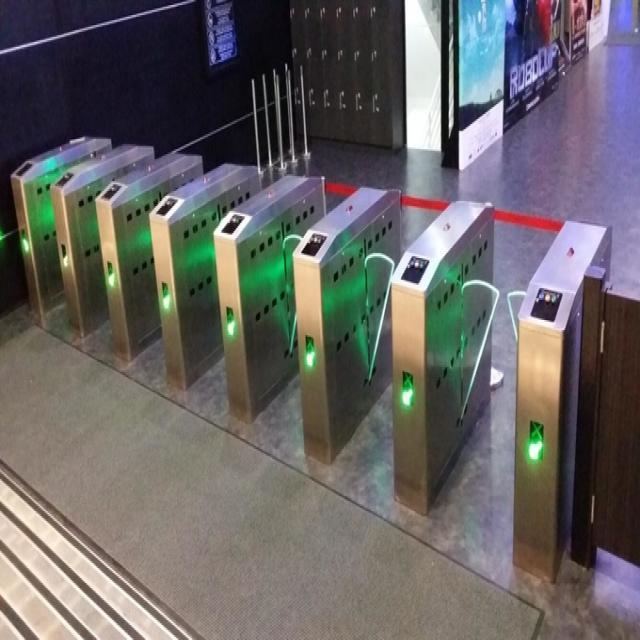torniquete: (512, 223, 605, 580), (391, 202, 496, 514), (292, 187, 401, 462), (214, 176, 325, 422), (150, 167, 261, 388), (95, 154, 202, 359), (51, 145, 154, 336), (11, 138, 111, 317)
